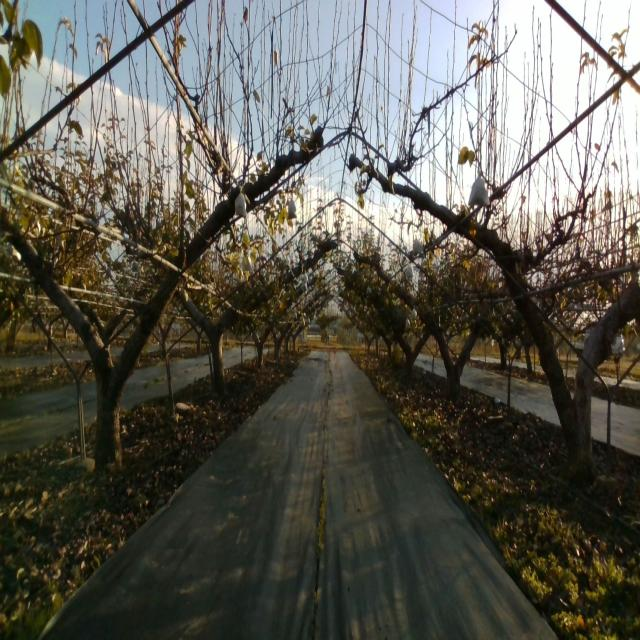pearbags: (468, 169, 490, 207), (234, 185, 247, 218), (412, 233, 424, 257), (287, 196, 297, 219)
